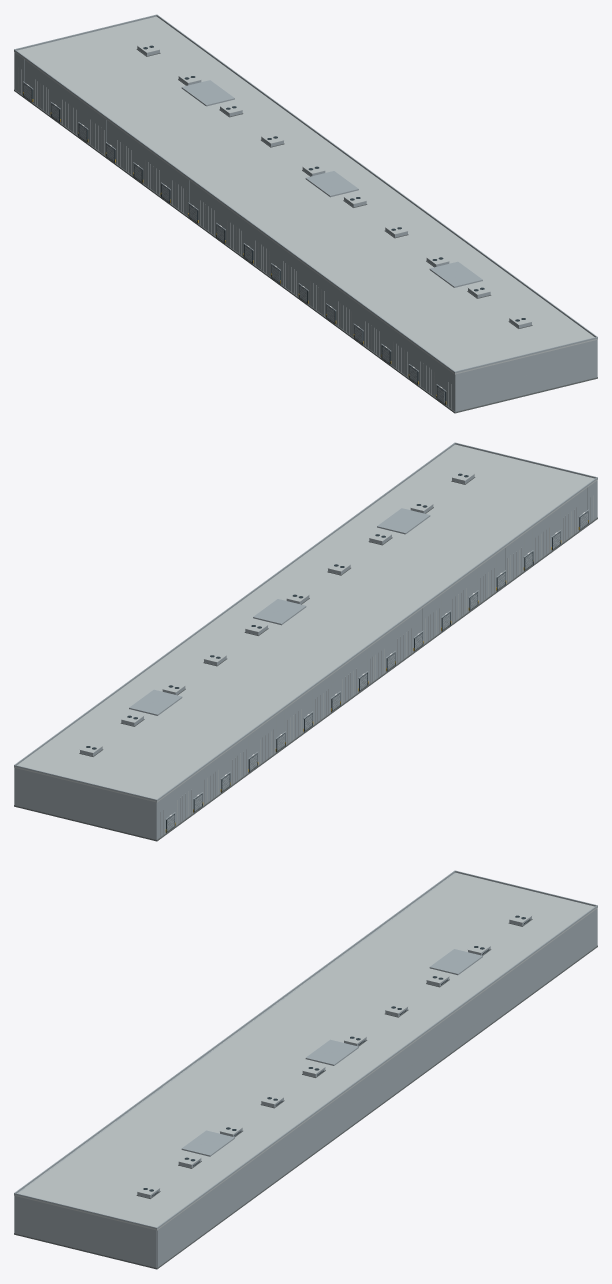
The model's file is CMN_cargo.glb.
3 views of the same model, one above another, from view 1: azimuth 30°, elevation 25°; view 2: azimuth 150°, elevation 25°; view 3: azimuth 330°, elevation 25° (orthographic).
Visible parts, largest first — view 1: CMN_cargo; view 2: CMN_cargo; view 3: CMN_cargo.
Part boxes in pixels (left/top/right/bottom): CMN_cargo: left=14, top=14, right=597, bottom=413; CMN_cargo: left=14, top=442, right=597, bottom=841; CMN_cargo: left=14, top=870, right=597, bottom=1269.
Bounding box in the file's own units: 60 × 18 × 320.
12 materials, 12 textured.
